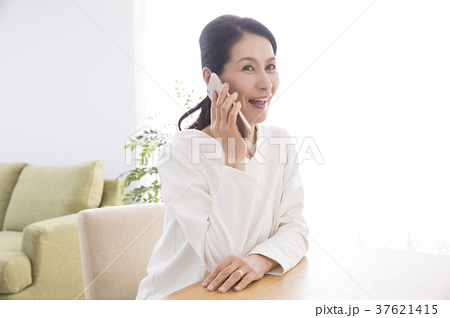phone: (205, 80, 249, 139)
talk: (207, 53, 281, 146)
